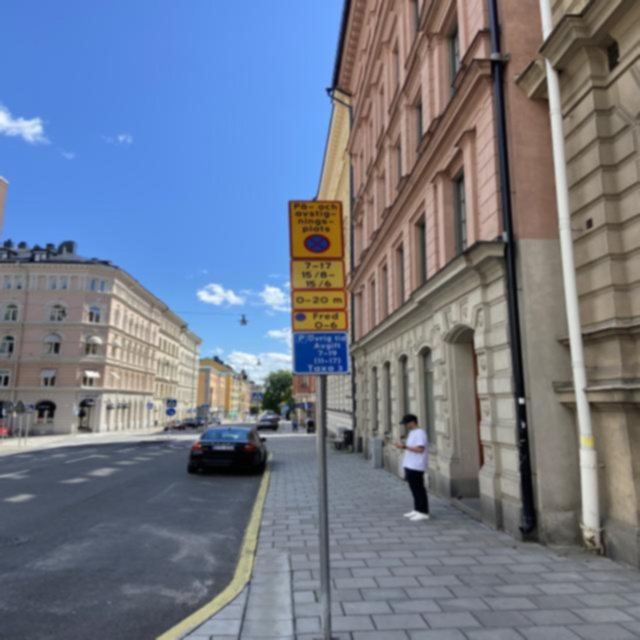avstignnigsplats: (287, 198, 345, 260)
